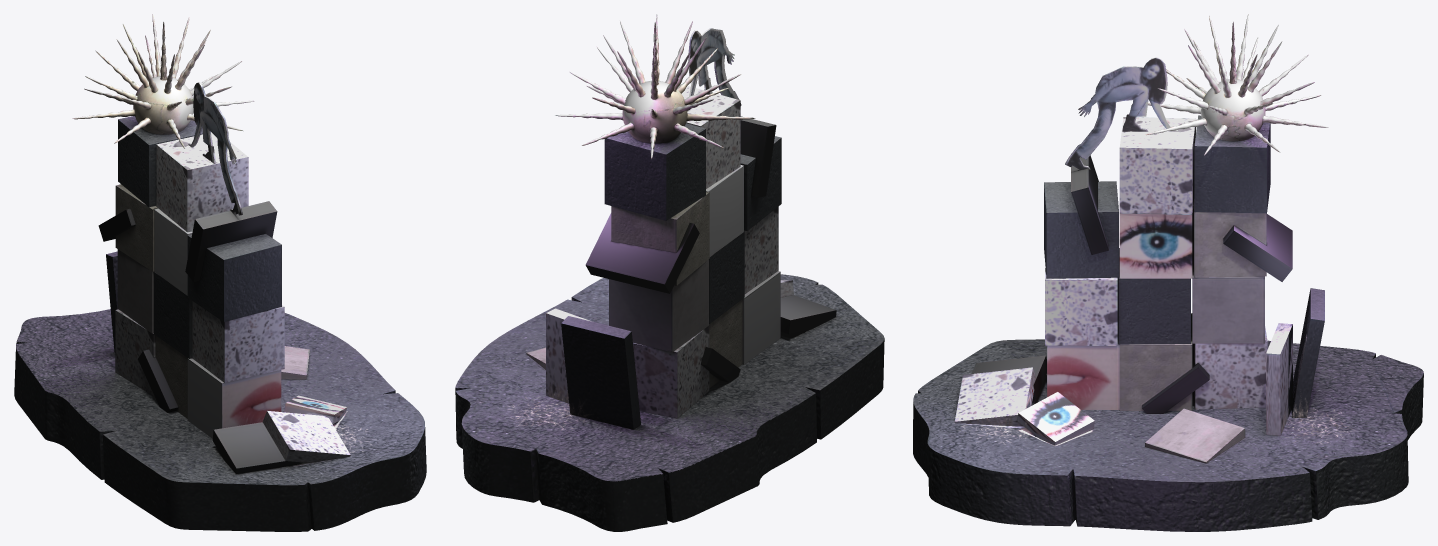
File: ostrov_kamni_05_ddb7f2f0.glb
3 views of the same model, side by side, from view 1: azimuth 30°, elevation 25°; view 2: azimuth 150°, elevation 25°; view 3: azimuth 270°, elevation 25° (orthographic). The views are drawn at different scales.
Visible parts, largest first — view 1: Mesh_0.001; view 2: Mesh_0.001; view 3: Mesh_0.001.
Part boxes in pixels (bbox=[...]): Mesh_0.001: bbox=[14, 14, 426, 531]; Mesh_0.001: bbox=[455, 14, 884, 531]; Mesh_0.001: bbox=[913, 14, 1423, 531].
Bounding box in the file's own units: 0.9345 × 1.29 × 1.41.
Materials: 1 (1 with a texture image).
